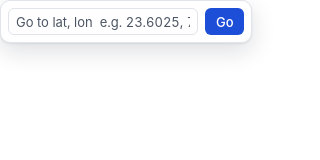
Test: CoordinateSearch › clears the message as soon as the person edits
This screenshot has width=320, height=160.
In the field named "coordinates": x=103, y=22 [8,8,198,35], type "oops"
Then press Enter
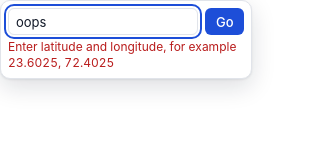
Check: the message "Enter latitude and longitude, for example 23.6025, 72.4025" is shown, box [8,38,244,70]
In the field named "coordinates": x=103, y=22 [8,8,198,35], type "1"
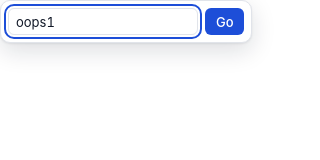
Check: the message "Enter latitude and longitude, for example 23.6025, 72.4025" is gone
